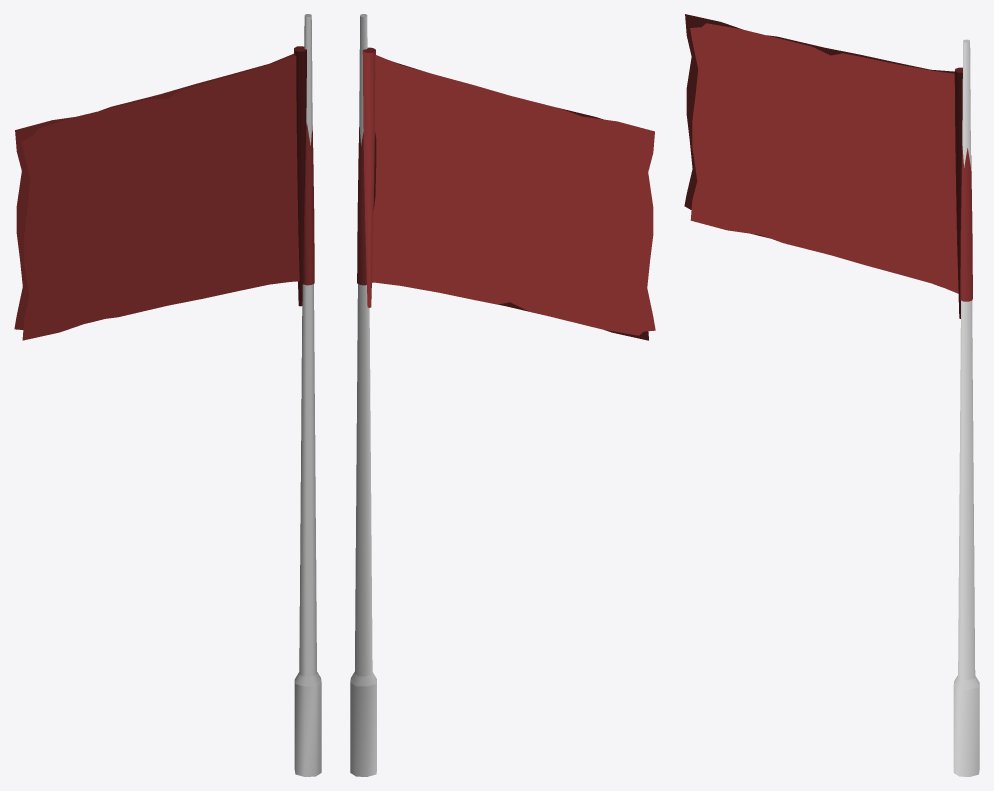
File: flag2.obj
The picture shows the model from 3 angles, left to right: view 1: azimuth 30°, elevation 25°; view 2: azimuth 150°, elevation 25°; view 3: azimuth 330°, elevation 25°; orthographic projection. The views are drawn at different scales.
Visible parts, largest first — view 1: Flag.001; view 2: Flag.001; view 3: Flag.001.
Part boxes in pixels (<box>): Flag.001: <box>14,14,321,776</box>; Flag.001: <box>350,14,655,776</box>; Flag.001: <box>684,14,979,776</box>.
Bounding box in the file's own units: 5.73 × 13.53 × 0.4787.
Materials: 3 (2 with a texture image).
